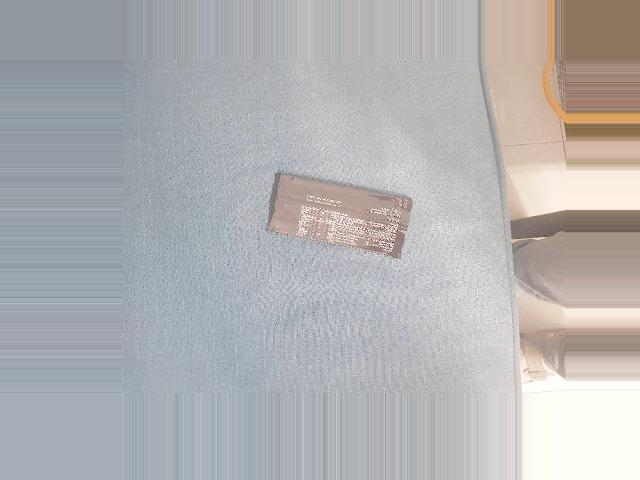chocolate: (266, 169, 415, 270)
